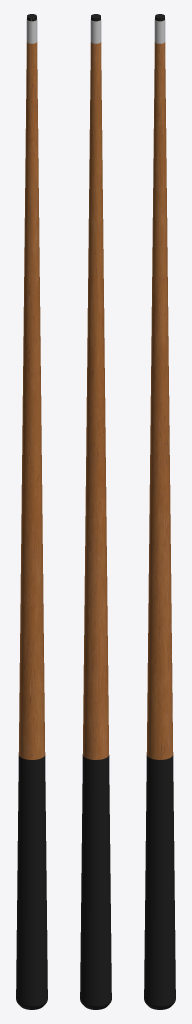
The model's file is cue3.fbx.
The picture shows the model from 3 angles, left to right: view 1: azimuth 90°, elevation 25°; view 2: azimuth 210°, elevation 25°; view 3: azimuth 270°, elevation 25°; orthographic projection.
Parts seen in each view (by area): view 1: Cue3; view 2: Cue3; view 3: Cue3.
Part boxes in pixels (left/top/right/bottom): Cue3: left=16, top=14, right=47, bottom=1009; Cue3: left=80, top=14, right=111, bottom=1009; Cue3: left=144, top=14, right=175, bottom=1009.
Size of the model in its own units: 4.65 by 159 by 4.65.
Materials: 1 (1 with a texture image).
